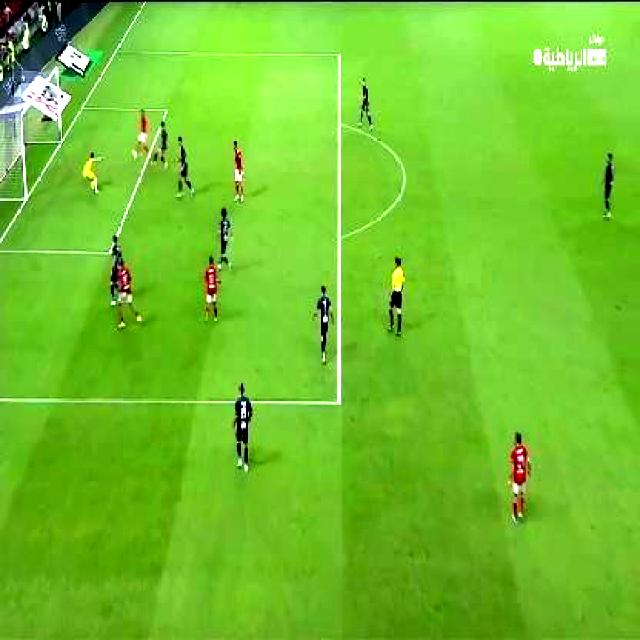bigarea_bottom_inner: (321, 381, 357, 417)
bigarea_top_inner: (334, 48, 343, 63)
bigarea_top_outter: (109, 44, 125, 59)
bottom_arc_area_intersection: (334, 229, 343, 245)
smallarea_bottom_inner: (106, 244, 115, 258)
smallarea_top_inner: (158, 100, 177, 120)
smallarea_top_outter: (74, 98, 86, 114)
top_arc_area_intersection: (335, 118, 343, 131)
